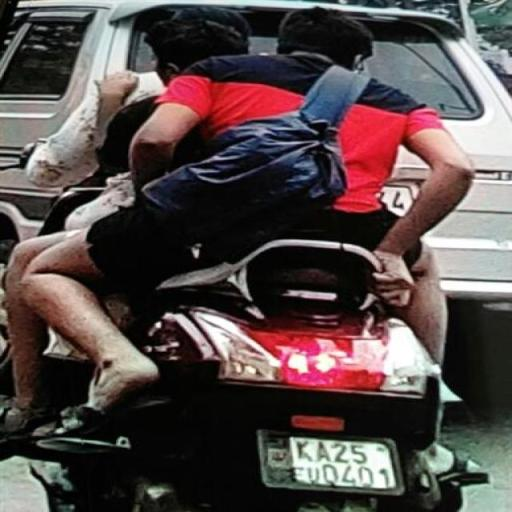tripple riding: (4, 1, 479, 323)
